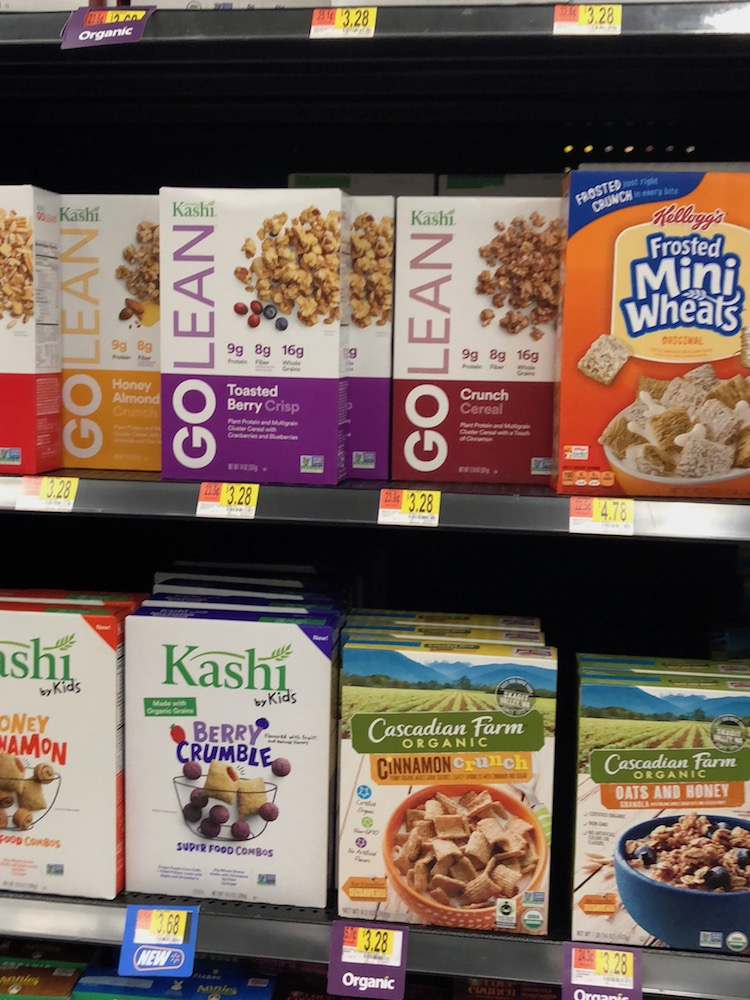Frosted Mini Original -9295869: (554, 172, 750, 488)
